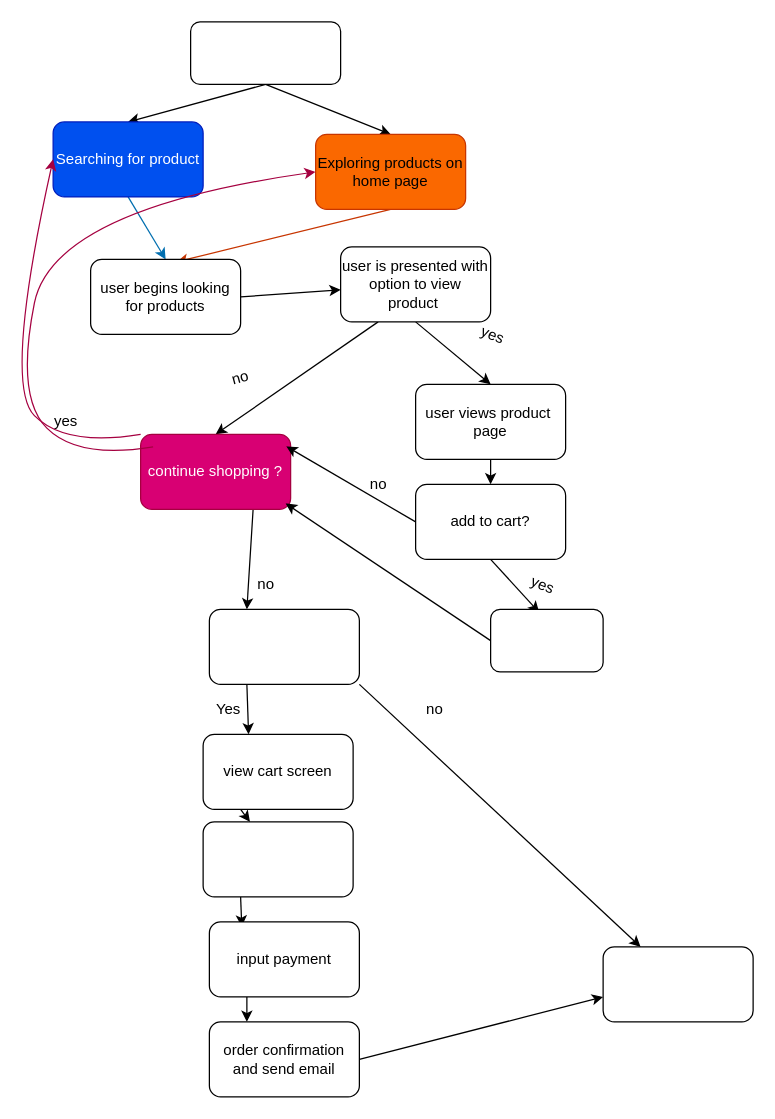
This 775x1119 diagram has some shape labels left out. The box of each missing label's shape, as (x1, y1, x2, y2) in pixels:
Checkout?: (208, 608, 359, 684)
confirmation of added to cart: (489, 608, 603, 672)
leaves website: (602, 946, 753, 1022)
User enters website: (189, 21, 341, 84)
view payment screen: (202, 821, 353, 897)
